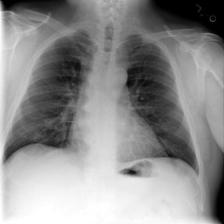normal: (1, 22, 202, 183)
